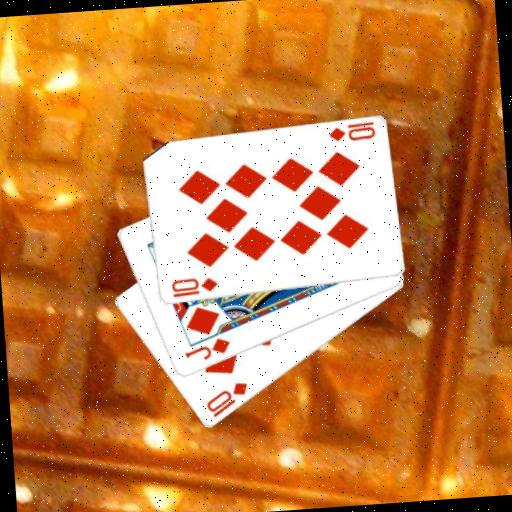10D: (201, 379, 251, 420), (168, 274, 220, 301), (325, 119, 377, 145)
JD: (181, 334, 233, 363)
